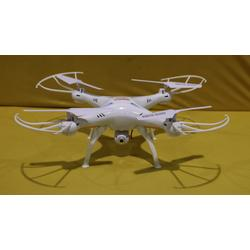drone: (14, 71, 231, 171)
